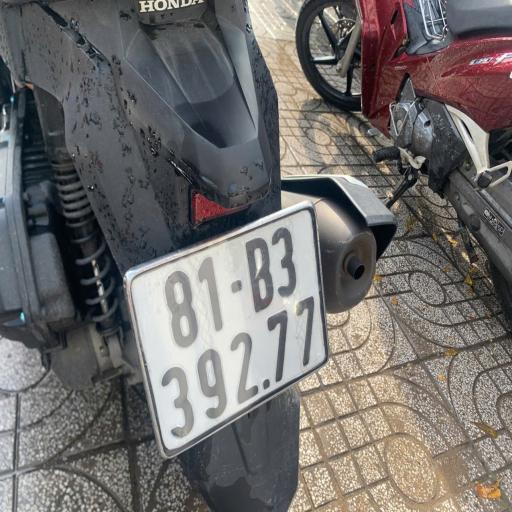1: (191, 248, 225, 344)
2: (223, 323, 262, 415)
3: (152, 358, 200, 444), (267, 221, 305, 301)
7: (262, 306, 296, 392), (294, 294, 323, 377)
8: (152, 256, 202, 349)
9: (189, 350, 233, 424)
B: (237, 232, 280, 316)
